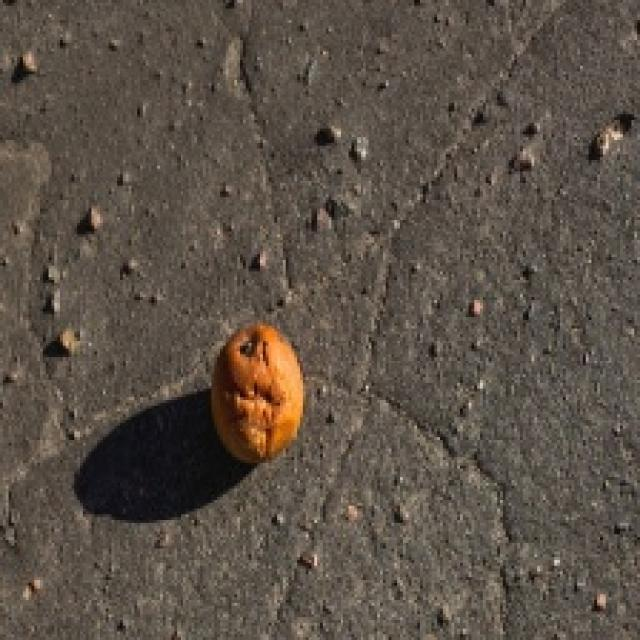rotten_apple: (216, 322, 305, 460)
